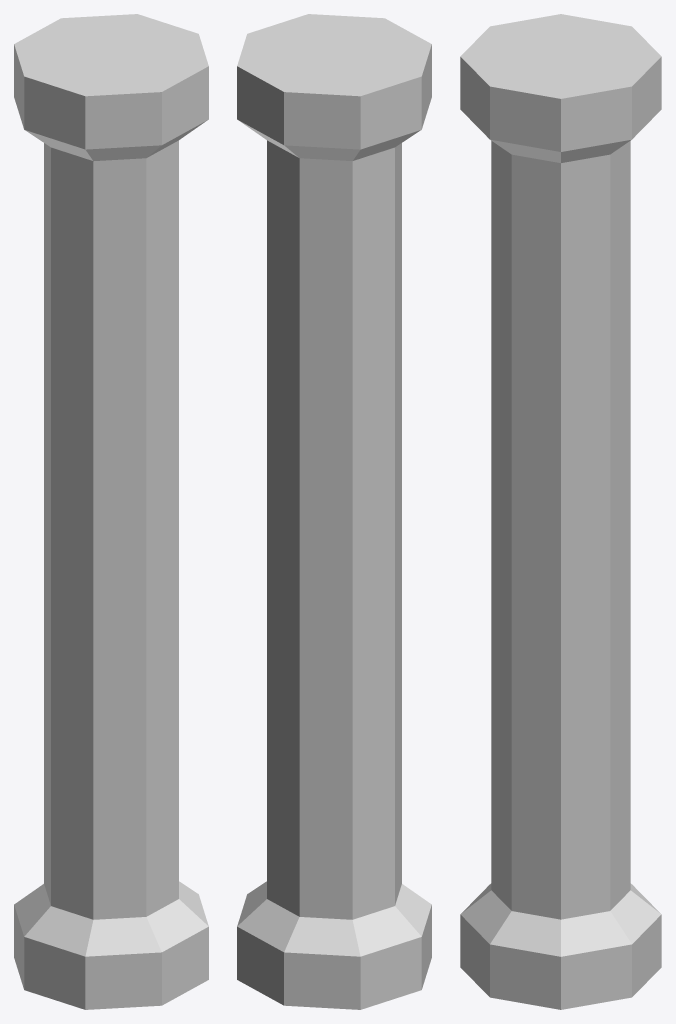
The model's file is cicle_pillar.glb.
3 views of the same model, side by side, from view 1: azimuth 30°, elevation 25°; view 2: azimuth 150°, elevation 25°; view 3: azimuth 270°, elevation 25° (orthographic).
Parts seen in each view (by area): view 1: CirclePillar; view 2: CirclePillar; view 3: CirclePillar.
Part boxes in pixels (x1,y1,x2,y2): CirclePillar: (14, 14, 208, 1009); CirclePillar: (237, 14, 431, 1009); CirclePillar: (460, 14, 661, 1009).
Size of the model in its own units: 2 by 10 by 2.
Materials: 1 (1 with a texture image).
